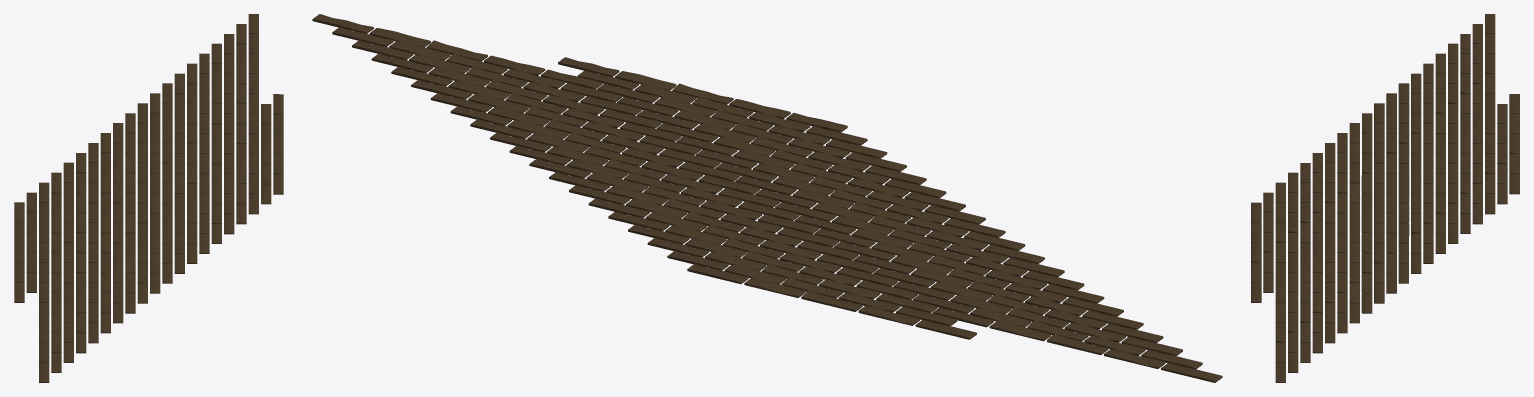
The model's file is SM_Floor_Test.fbx.
3 views of the same model, side by side, from view 1: azimuth 90°, elevation 25°; view 2: azimuth 150°, elevation 25°; view 3: azimuth 270°, elevation 25° (orthographic). The views are drawn at different scales.
Parts seen in each view (by area): view 1: Floor.002, Floor_2.001; view 2: Floor_2.001, Floor.002; view 3: Floor_2.001, Floor.002.
Boxes of the visible parts, bbox=[...] form: Floor.002: bbox=[39, 94, 283, 382]; Floor_2.001: bbox=[14, 14, 258, 302]; Floor_2.001: bbox=[312, 14, 976, 339]; Floor.002: bbox=[558, 57, 1222, 382]; Floor_2.001: bbox=[1275, 94, 1519, 382]; Floor.002: bbox=[1251, 14, 1495, 302].
Size of the model in its own units: 110 by 0.3926 by 34.02.
